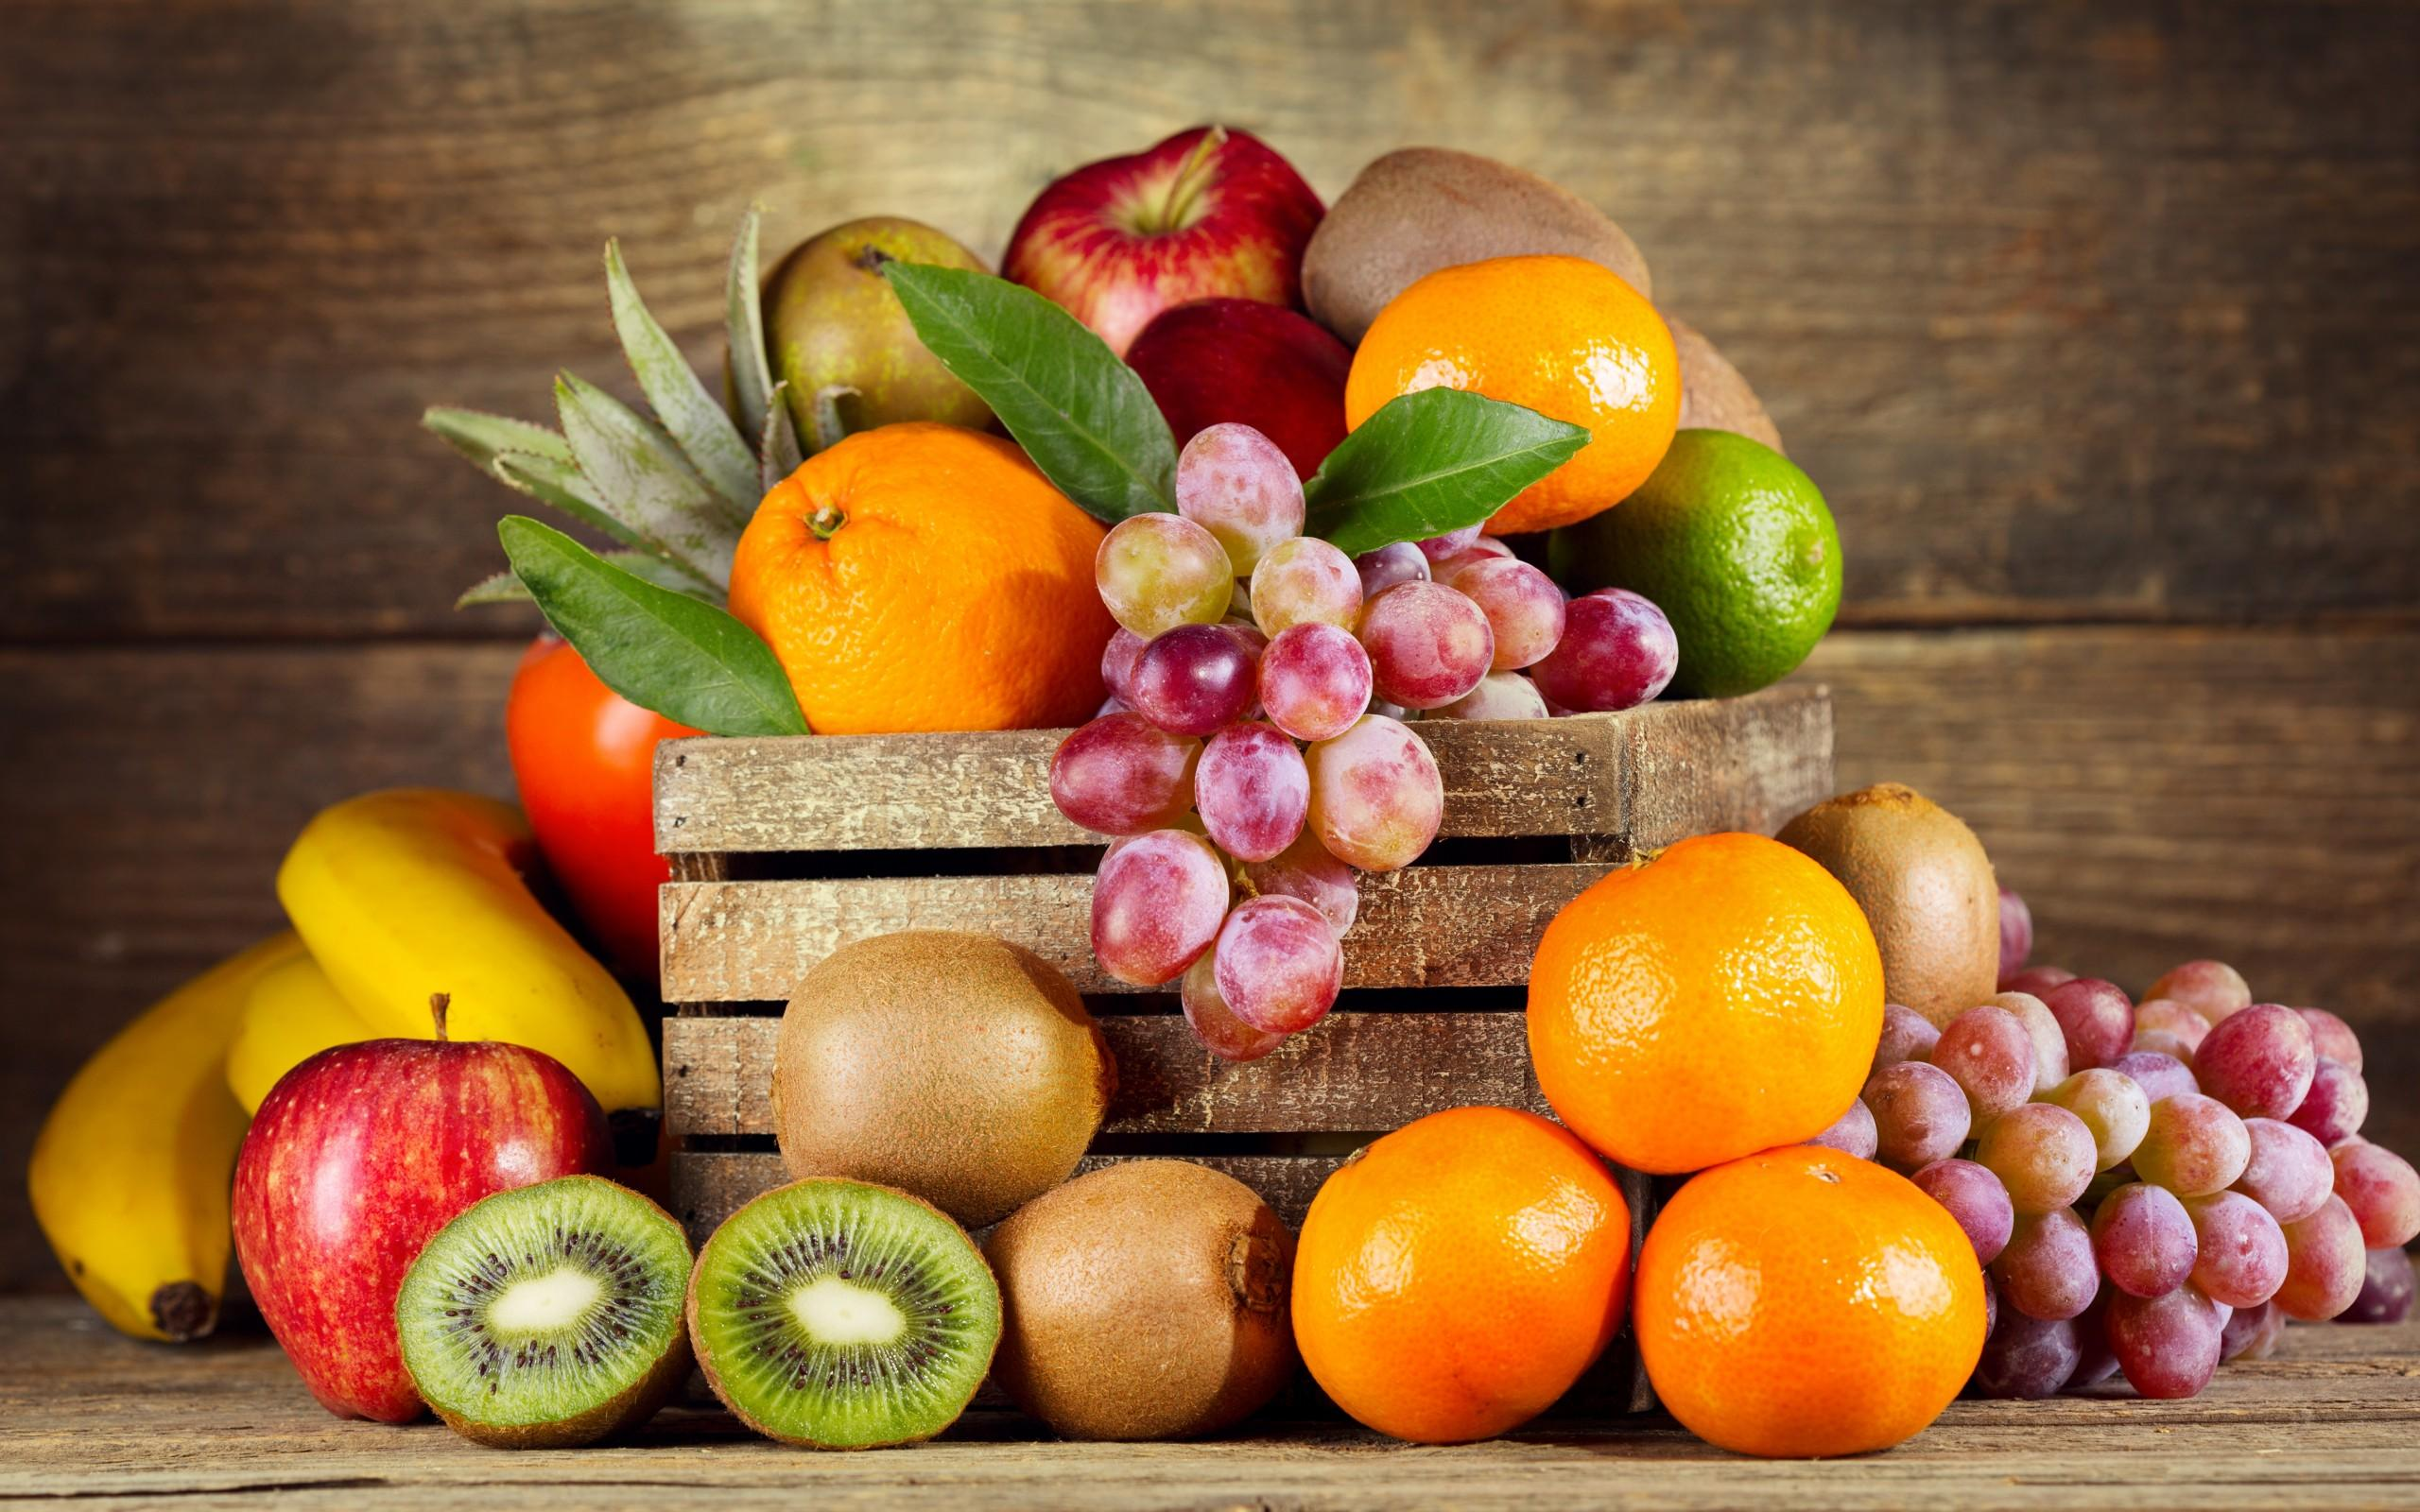apple: (232, 1021, 566, 1272), (988, 113, 1324, 341)
banana: (240, 761, 664, 1117)
grape: (1040, 416, 1601, 1042), (1896, 956, 2420, 1401)
kiwi: (685, 1162, 1011, 1470), (763, 921, 1106, 1207), (993, 1143, 1284, 1449), (385, 1176, 690, 1441)
lime: (1657, 420, 1854, 690)
orange: (1275, 1092, 1639, 1444), (1519, 822, 1889, 1162), (718, 413, 1098, 742), (1636, 1129, 1983, 1470), (1357, 260, 1690, 537)
